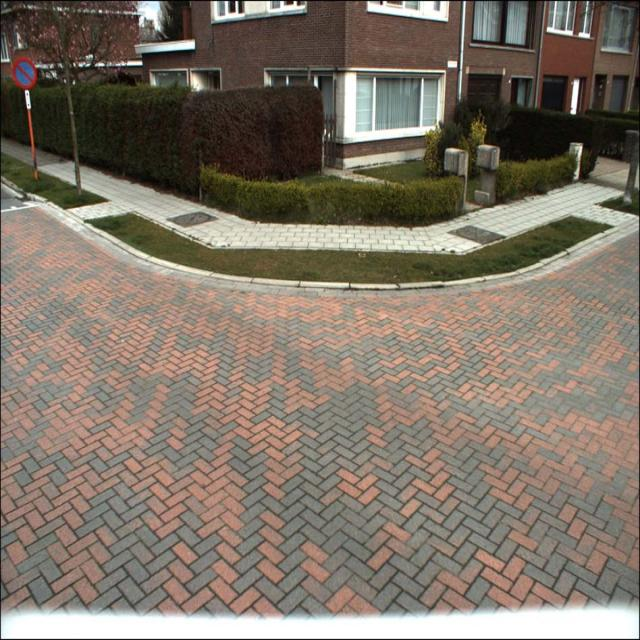parkyasak: (13, 59, 37, 90)
